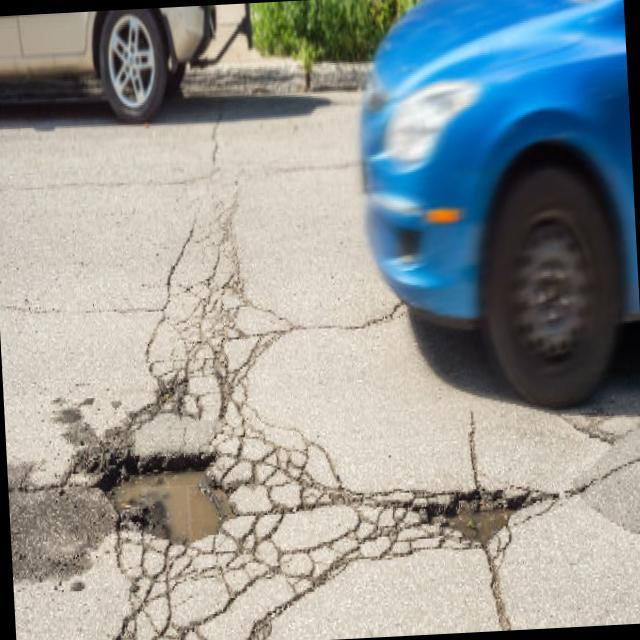Pothole: (111, 408, 264, 584), (373, 464, 569, 596)
